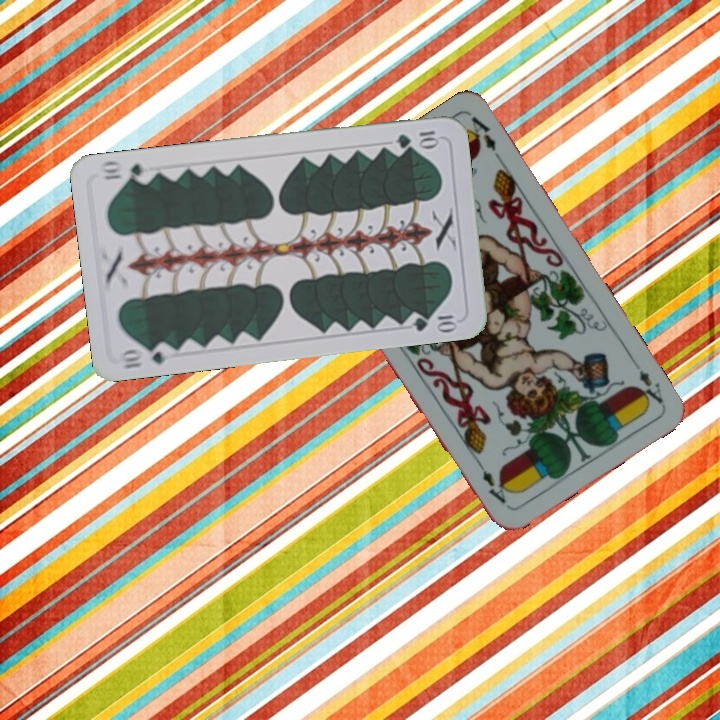EA: (627, 354, 666, 409)
G10: (117, 339, 176, 372), (392, 126, 442, 151)
